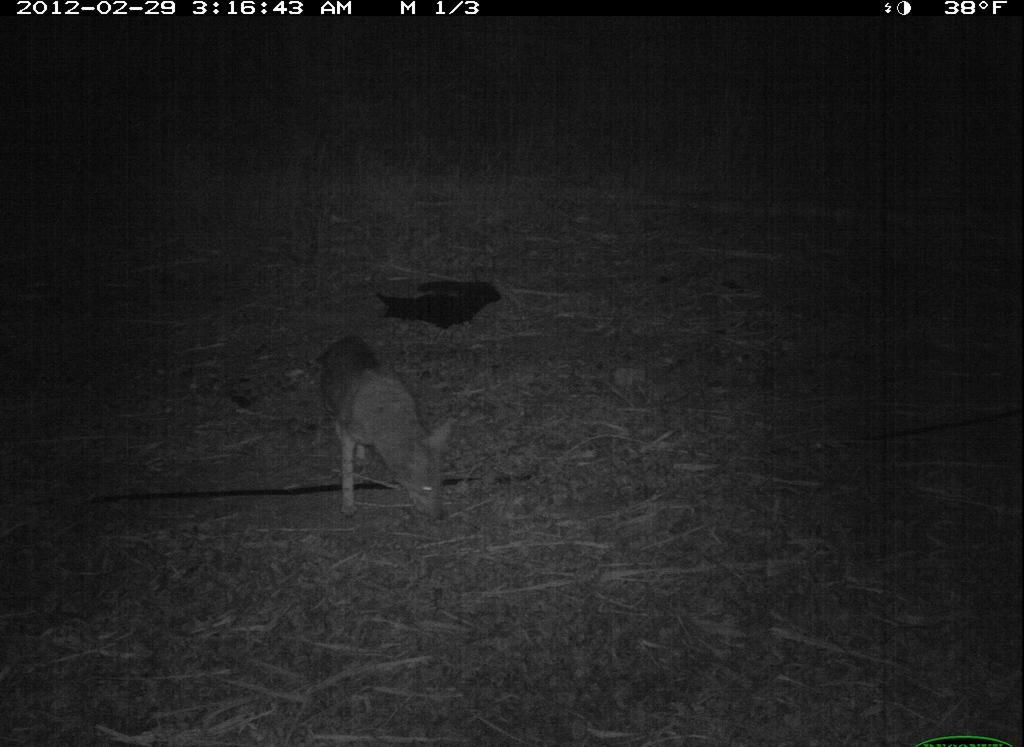coyote: (297, 337, 456, 537)
